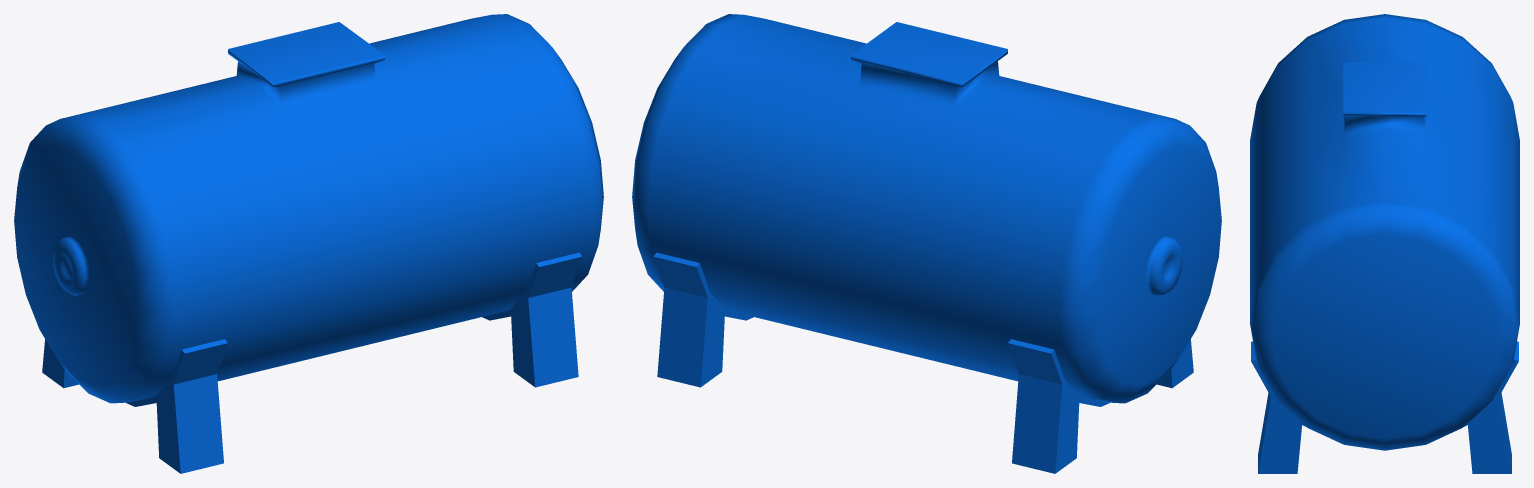
File: Storage_Tank_01_Lod0.fbx
The picture shows the model from 3 angles, left to right: view 1: azimuth 30°, elevation 25°; view 2: azimuth 150°, elevation 25°; view 3: azimuth 270°, elevation 25°; orthographic projection. The views are drawn at different scales.
Visible parts, largest first — view 1: Storage_Tank_01_Lod0; view 2: Storage_Tank_01_Lod0; view 3: Storage_Tank_01_Lod0.
Part boxes in pixels (left/top/right/bottom): Storage_Tank_01_Lod0: left=14, top=14, right=603, bottom=473; Storage_Tank_01_Lod0: left=632, top=14, right=1221, bottom=473; Storage_Tank_01_Lod0: left=1250, top=14, right=1519, bottom=473.
Bounding box in the file's own units: 170 × 110 × 91.24.
